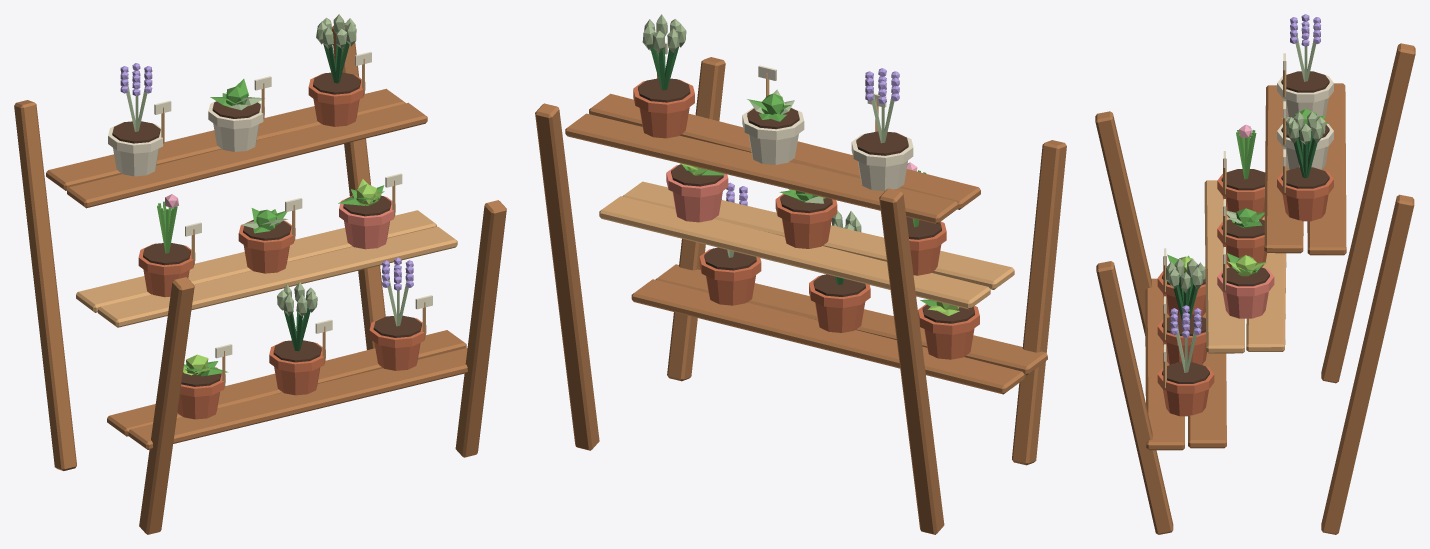
File: herb_shelf.glb
The picture shows the model from 3 angles, left to right: view 1: azimuth 30°, elevation 25°; view 2: azimuth 150°, elevation 25°; view 3: azimuth 270°, elevation 25°; orthographic projection. The views are drawn at different scales.
Visible parts, largest first — view 1: Herb Shelf; view 2: Herb Shelf; view 3: Herb Shelf.
Part boxes in pixels (left/top/right/bottom): Herb Shelf: left=14, top=14, right=506, bottom=534; Herb Shelf: left=535, top=14, right=1066, bottom=534; Herb Shelf: left=1095, top=14, right=1415, bottom=534.
Bounding box in the file's own units: 1.3 × 1.43 × 1.07.
1 material, 1 textured.
